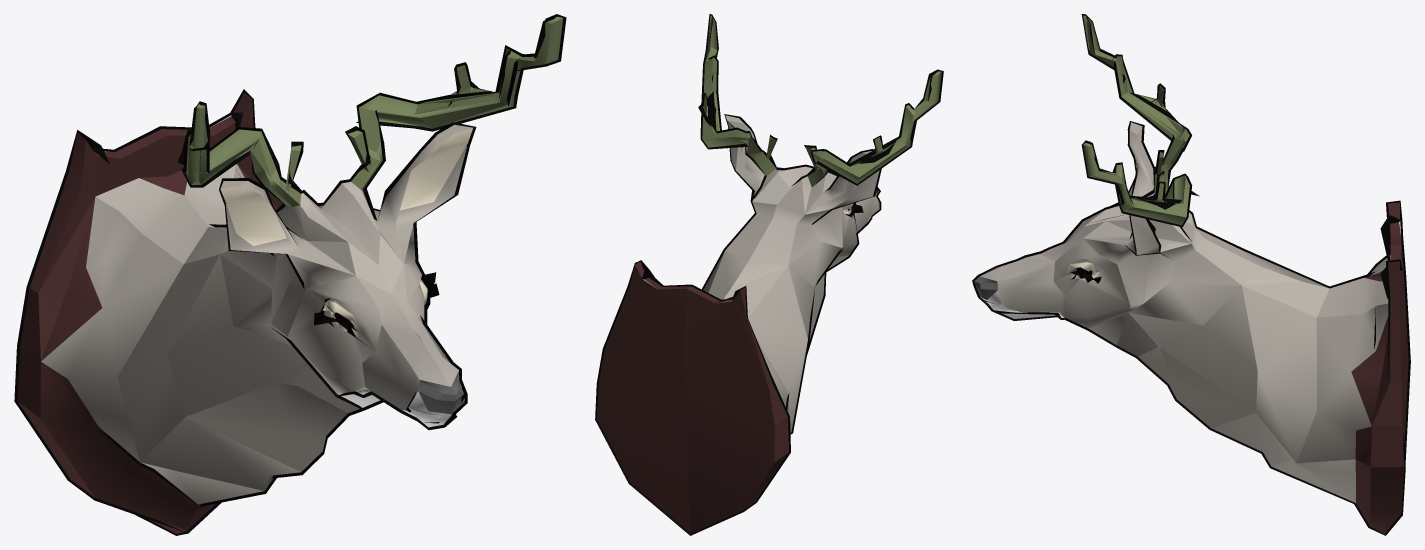
The model's file is BGMD_Deer_GP.fbx.
3 renders of one model, left to right at view 1: azimuth 30°, elevation 25°; view 2: azimuth 150°, elevation 25°; view 3: azimuth 270°, elevation 25°, orthographic. The views are drawn at different scales.
Visible parts, largest first — view 1: BGMD_Deer, BGMD_Deer2; view 2: BGMD_Deer, BGMD_Deer2; view 3: BGMD_Deer, BGMD_Deer2.
Part boxes in pixels (x1,y1,x2,y2): BGMD_Deer: (17, 16, 563, 533); BGMD_Deer2: (14, 14, 566, 535); BGMD_Deer: (597, 15, 941, 533); BGMD_Deer2: (595, 14, 943, 535); BGMD_Deer: (974, 15, 1408, 533); BGMD_Deer2: (972, 14, 1410, 535).
Bounding box in the file's own units: 56.34 × 91.63 × 79.79.
